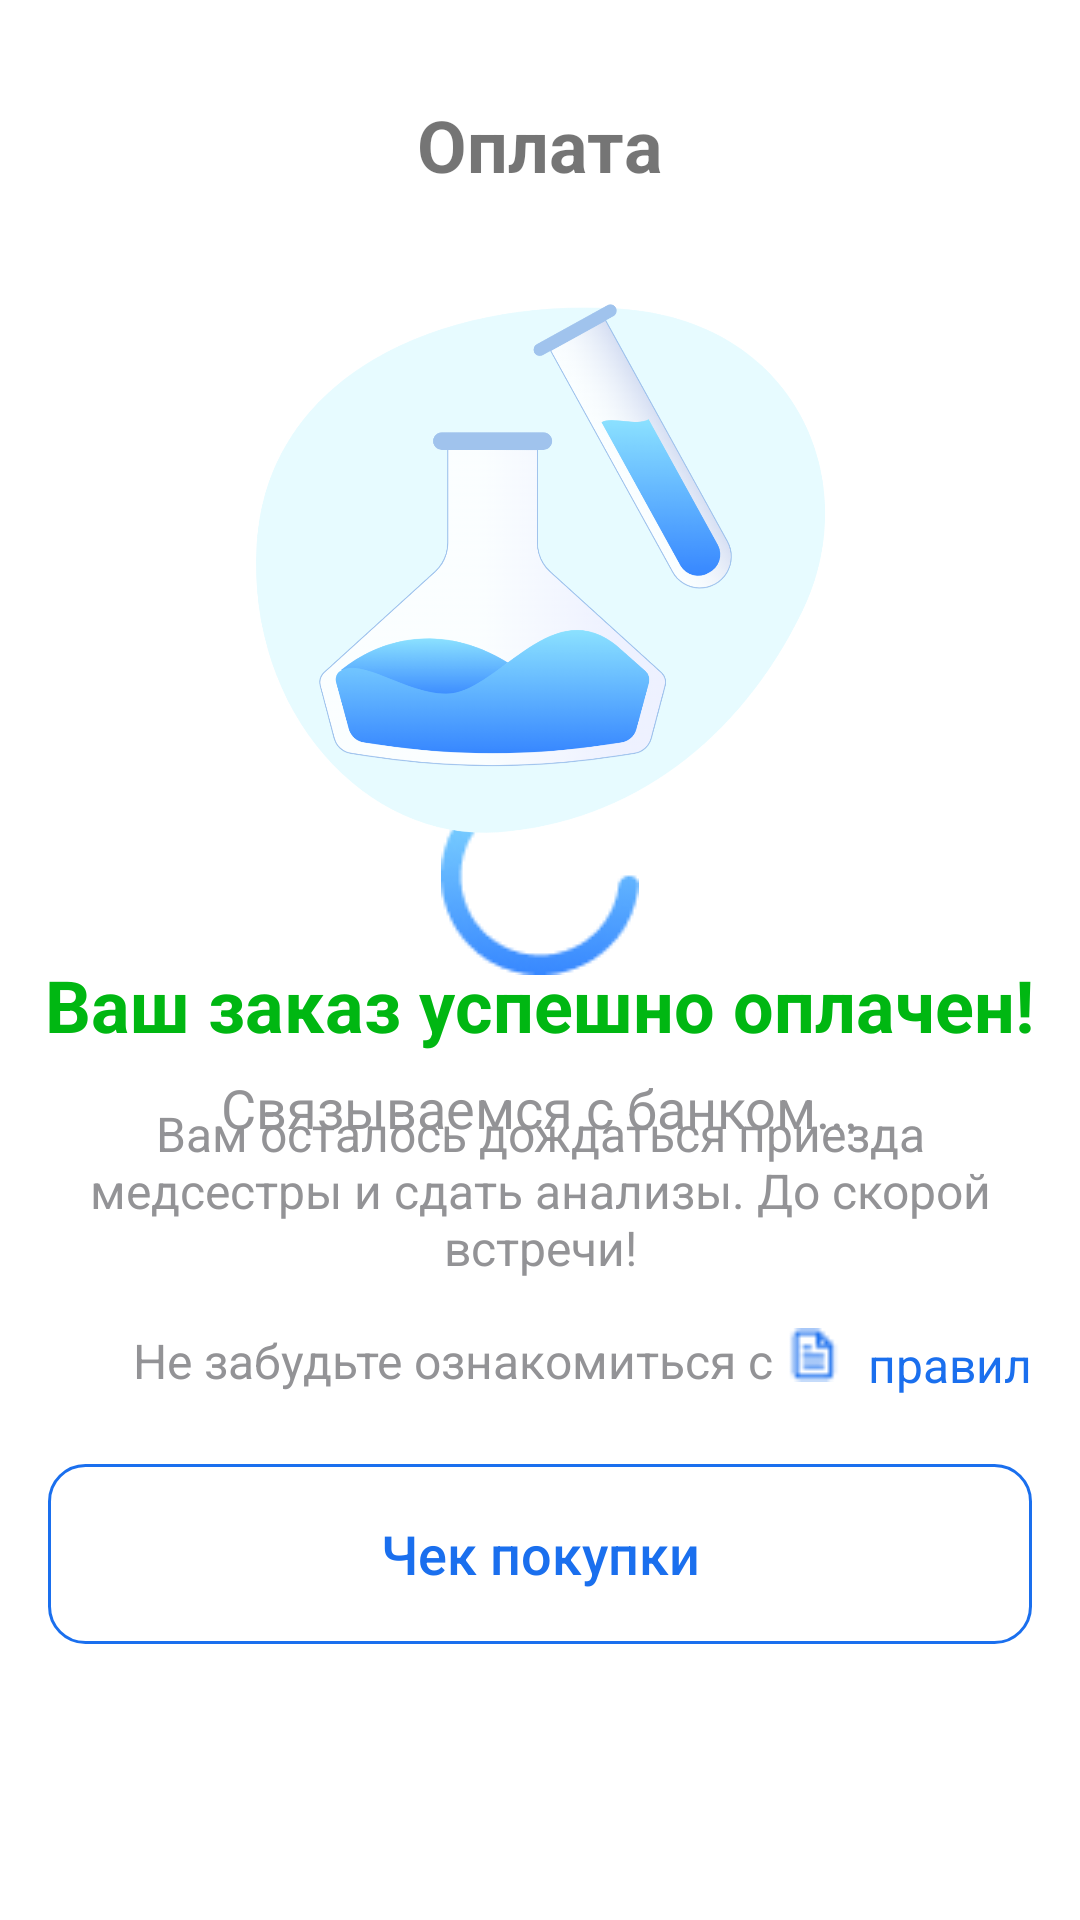

Icons on this 1080 x 1920 Android screen, each with the point to tap as (x,y):
payment rule: (812,1355)
